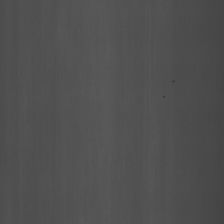inclusion: (159, 85, 168, 103), (172, 71, 178, 89)
